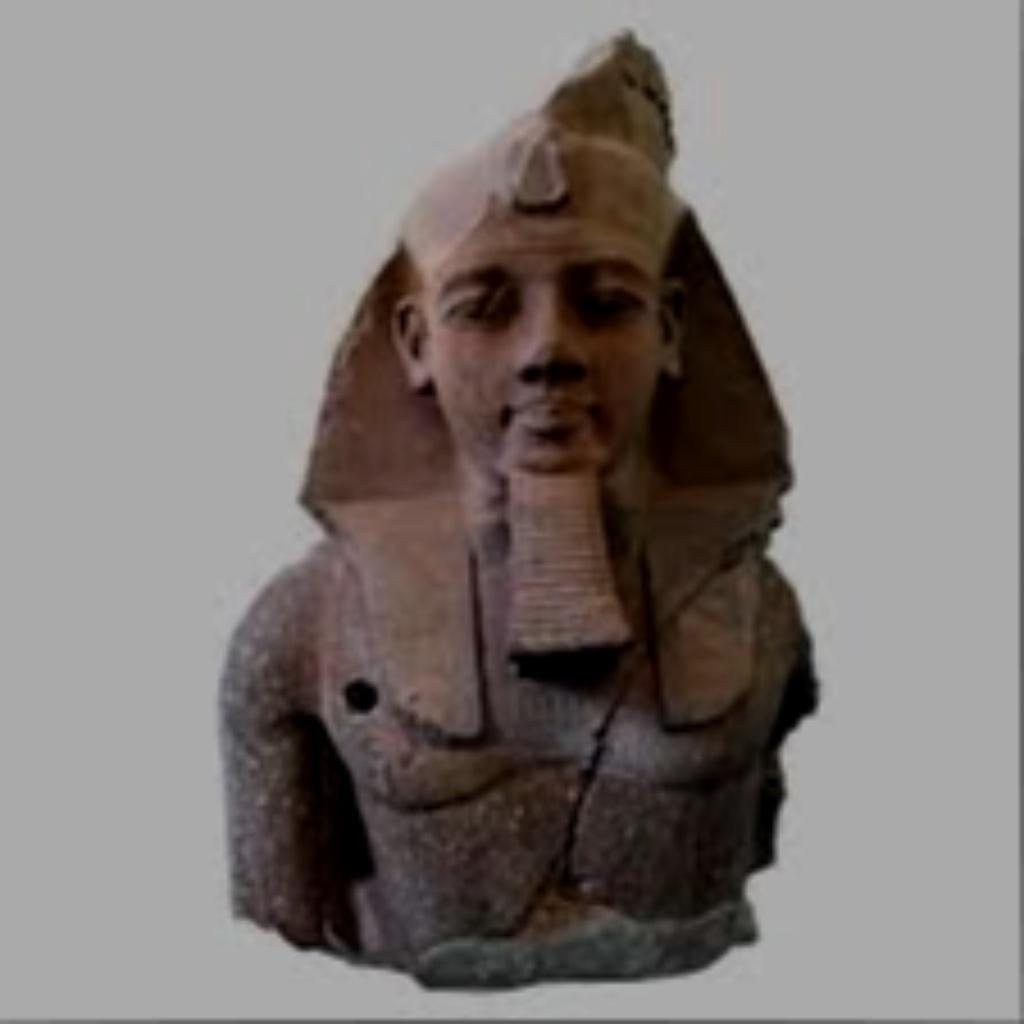bust of Ramesses II: (210, 23, 824, 992)
